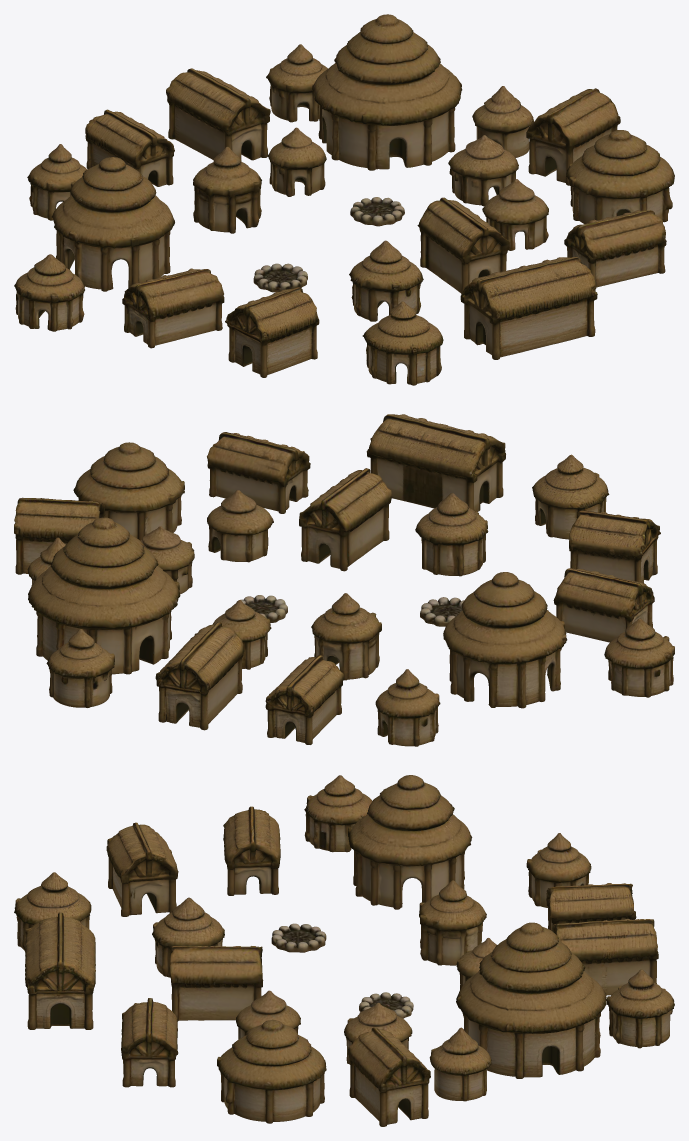
The model's file is Prehistoric Town (South Asian).fbx.
3 views of the same model, one above another, from view 1: azimuth 30°, elevation 25°; view 2: azimuth 150°, elevation 25°; view 3: azimuth 270°, elevation 25° (orthographic).
Parts seen in each view (by area): view 1: tripo_node_fb8b1f08; view 2: tripo_node_fb8b1f08; view 3: tripo_node_fb8b1f08.
Part boxes in pixels (x1,y1,x2,y2): tripo_node_fb8b1f08: [14, 14, 674, 385]; tripo_node_fb8b1f08: [14, 414, 674, 746]; tripo_node_fb8b1f08: [14, 775, 674, 1126].
Size of the model in its own units: 1 by 0.1949 by 0.9171.
